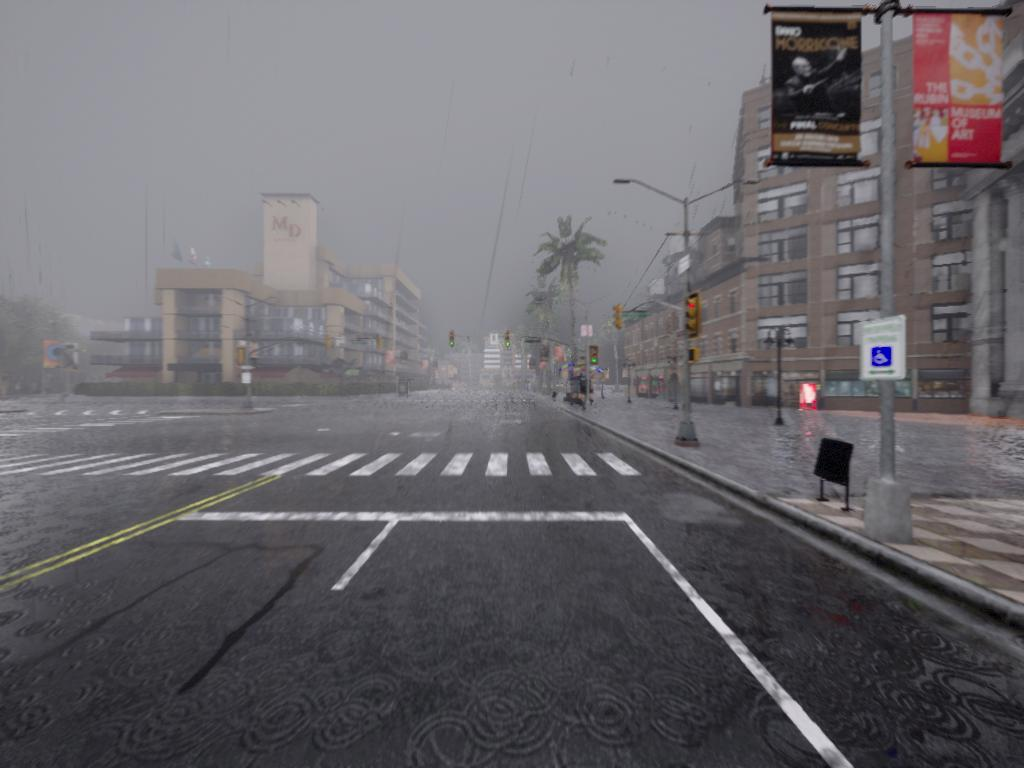traffic_light: (687, 297, 704, 336), (613, 307, 625, 331), (503, 331, 512, 350), (591, 349, 601, 365), (448, 330, 456, 349), (692, 349, 702, 364), (239, 348, 246, 368), (327, 334, 334, 352), (377, 336, 383, 352)
